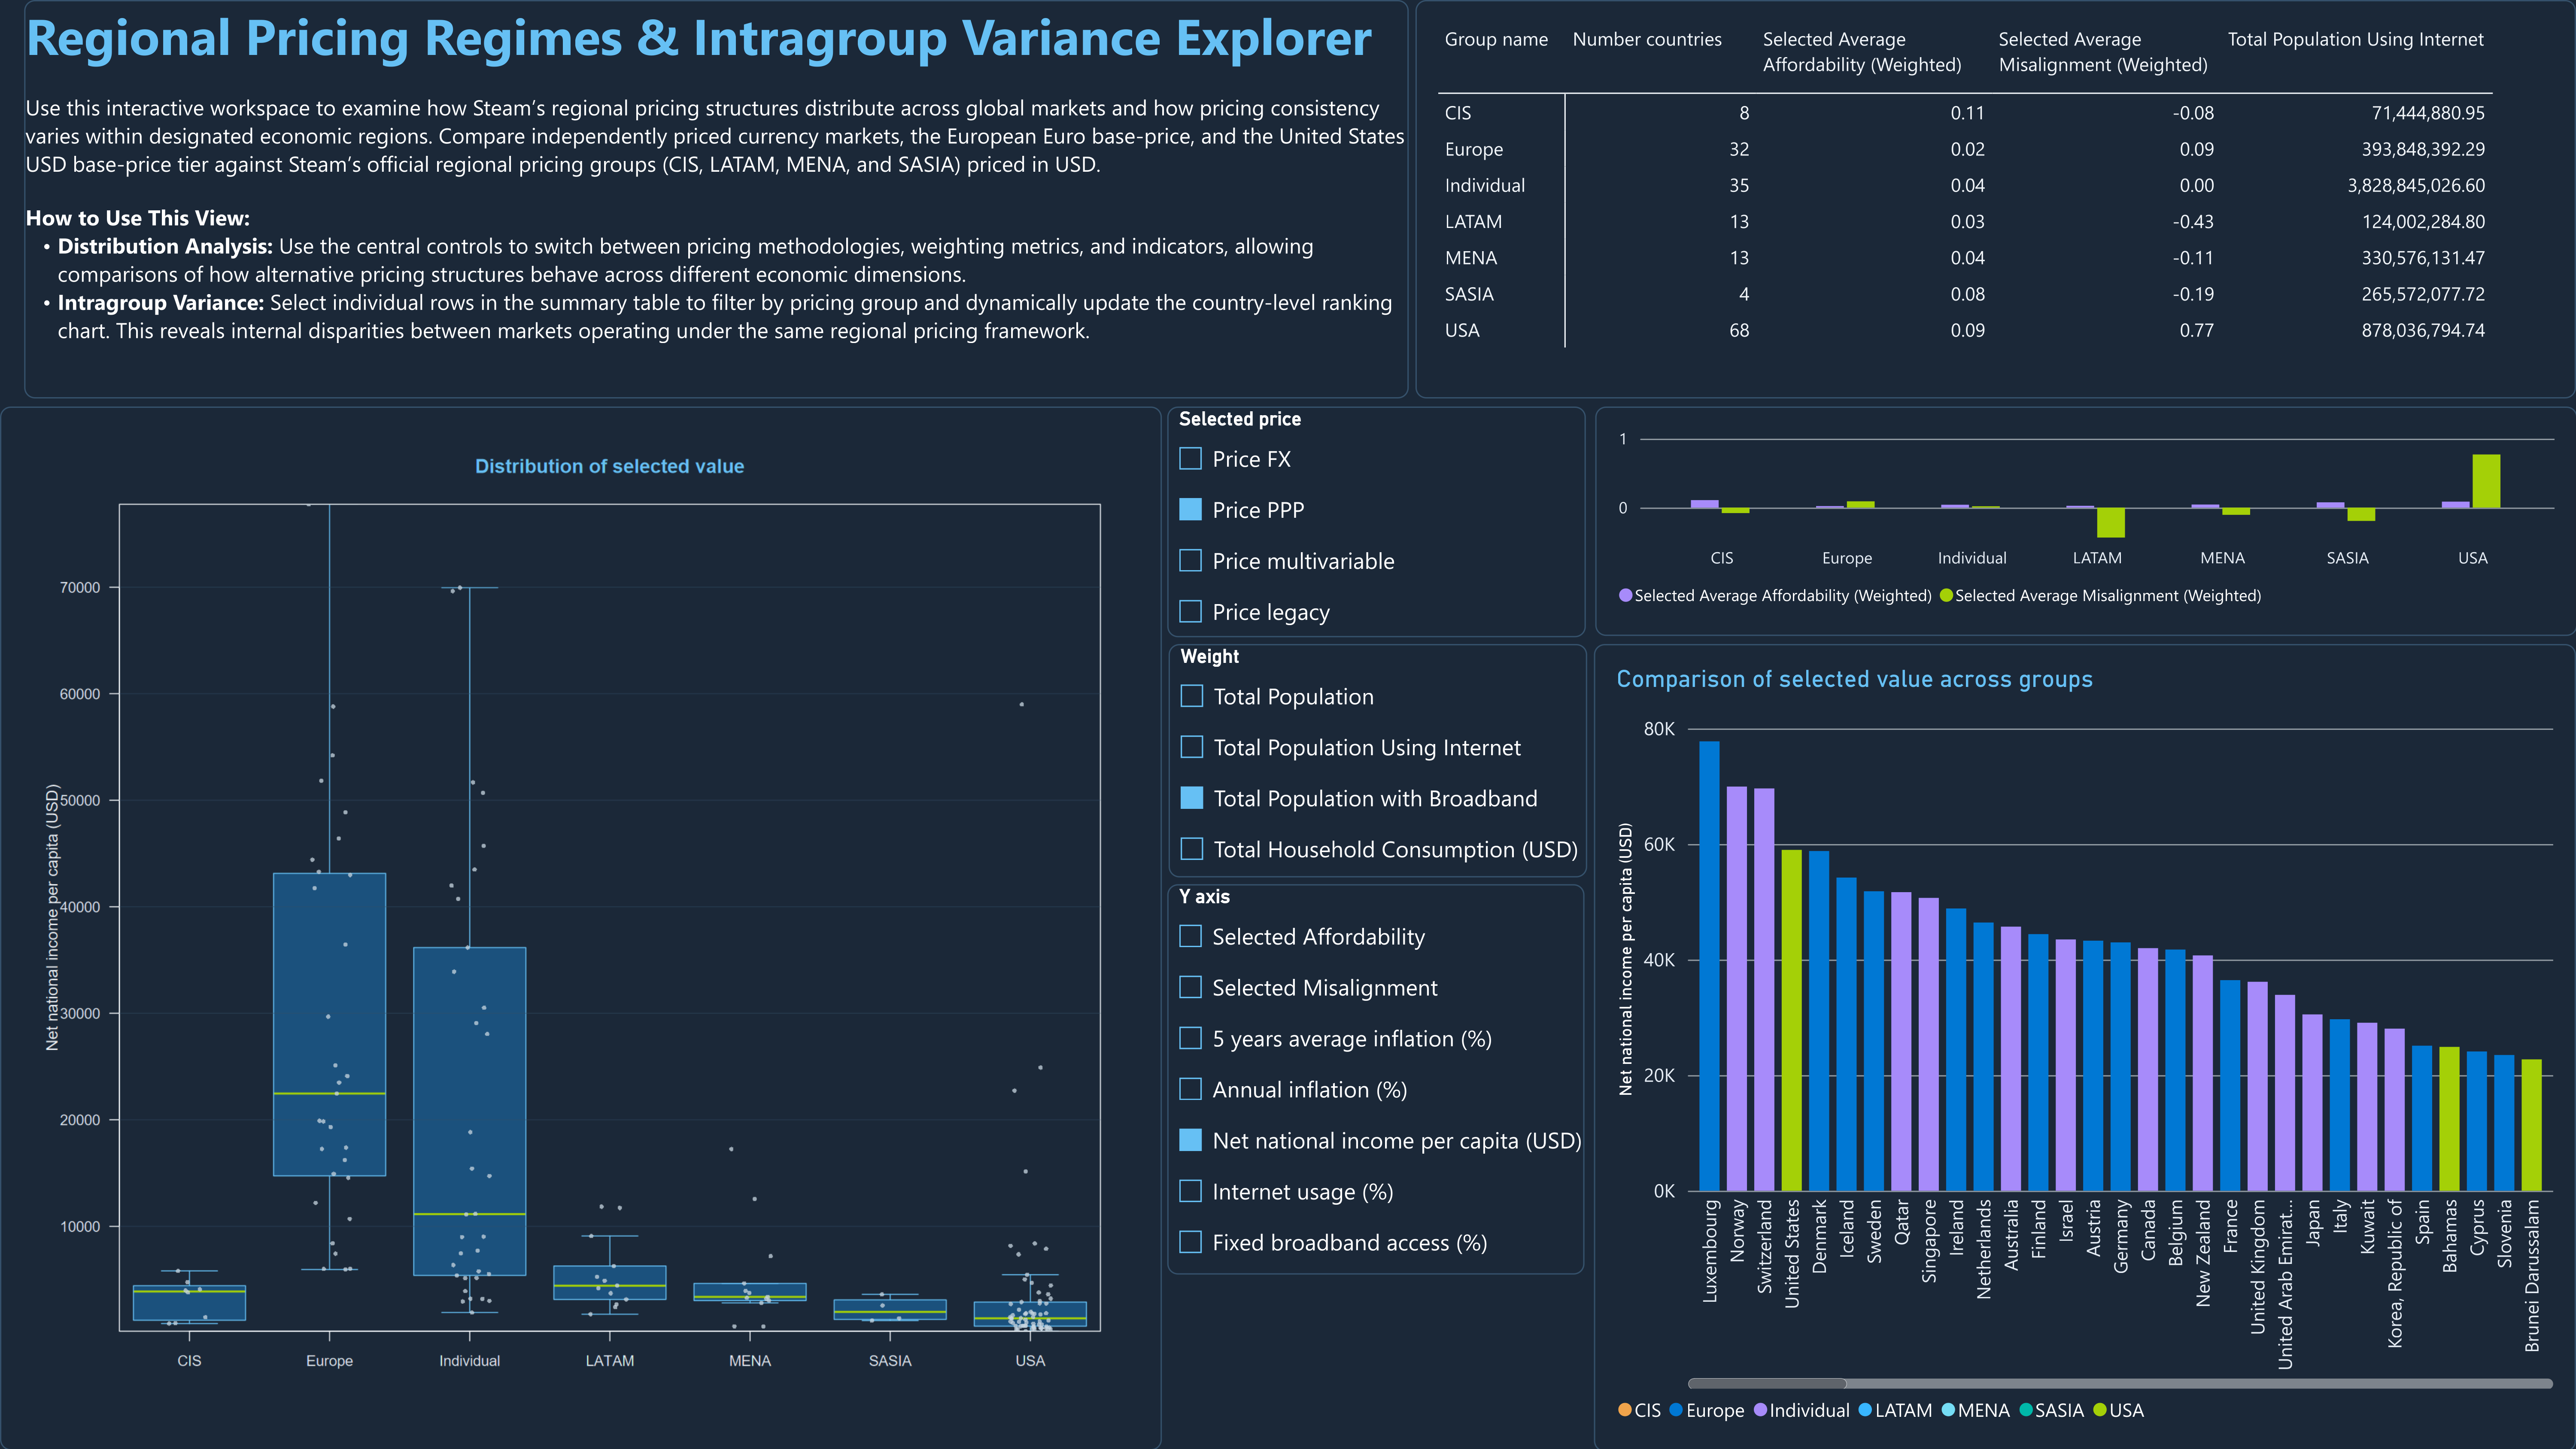

This screenshot's page, from the dashboard's own definition file:
{"tool":"powerbi","page":{"name":"Pricing regimes comparison","canvas":[1920,1080],"ordinal":2},"visuals":[{"type":"scriptVisual","title":"Distribution of selected value","fields":{"Values":["steam_regional_pricing_dataset.group_name","steam_regional_pricing_dataset.Selected Affordability","steam_regional_pricing_dataset.iso3"]},"box":[0,302.9,865.7,778.6],"z":0},{"type":"slicer","fields":{"Values":["Paramètre.Paramètre"]},"box":[870,302.9,311.7,171.7],"z":4000},{"type":"columnChart","title":"Comparison of selected value across groups","fields":{"Category":["steam_regional_pricing_dataset.country_name"],"Series":["steam_regional_pricing_dataset.group_name"],"Y":["steam_regional_pricing_dataset.Selected Affordability"]},"box":[1188.3,480,731.7,601.7],"z":6000},{"type":"textbox","box":[18.3,0,1031.7,296.7],"z":9000},{"type":"pivotTable","fields":{"Rows":["steam_regional_pricing_dataset.group_name"],"Values":["CountNonNull(steam_regional_pricing_dataset.iso3)","steam_regional_pricing_dataset.Selected Average Affordability (Weighted)","steam_regional_pricing_dataset.Selected Average Misalignment (Weighted)","steam_regional_pricing_dataset.Total Population Using Internet"]},"box":[1055,0,865,296.7],"z":10000},{"type":"slicer","fields":{"Values":["Weight.Weight"]},"box":[871.4,480,311.4,173.6],"z":11000},{"type":"lineClusteredColumnComboChart","fields":{"Category":["steam_regional_pricing_dataset.group_name"],"Y":["steam_regional_pricing_dataset.Selected Average Affordability (Weighted)","steam_regional_pricing_dataset.Selected Average Misalignment (Weighted)"]},"box":[1188.6,302.9,732.9,171.4],"z":12000},{"type":"slicer","fields":{"Values":["boxplot parameter.boxplot parameter"]},"box":[870,658.6,311.4,291.4],"z":13000}]}

Visuals, with their boxes in screenshot pixels (x1, y1, x2, y2), scaled from the page's 1920x1080 canvas onto the 2576x1449 screenshot:
"Distribution of selected value" scriptVisual: box(0, 407, 1161, 1449)
slicer - Paramètre.Paramètre: box(1167, 407, 1586, 637)
"Comparison of selected value across groups" columnChart: box(1594, 644, 2576, 1449)
textbox: box(24, 0, 1409, 398)
pivotTable - steam_regional_pricing_dataset.group_name x CountNonNull(steam_regional_pricing_dataset.iso3): box(1416, 0, 2576, 398)
slicer - Weight.Weight: box(1169, 644, 1587, 877)
lineClusteredColumnComboChart - steam_regional_pricing_dataset.group_name x steam_regional_pricing_dataset.Selected Average Affordability (Weighted): box(1595, 407, 2576, 636)
slicer - boxplot parameter.boxplot parameter: box(1167, 884, 1585, 1275)
